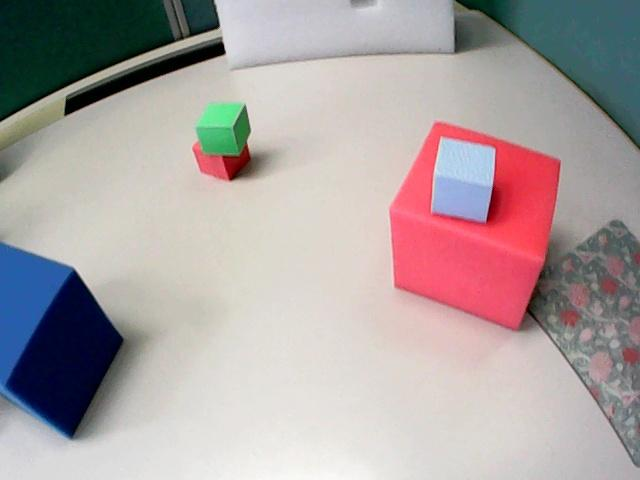blue_block: (0, 243, 122, 436), (431, 137, 495, 222)
red_block: (390, 123, 559, 328), (192, 141, 249, 180)
